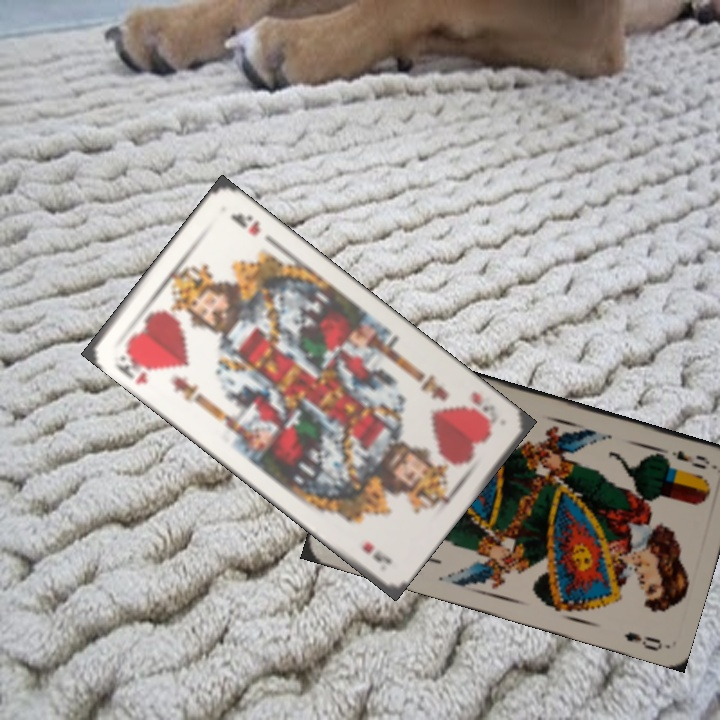EO: (667, 446, 713, 472)
HK: (110, 346, 154, 388), (465, 387, 501, 428)
